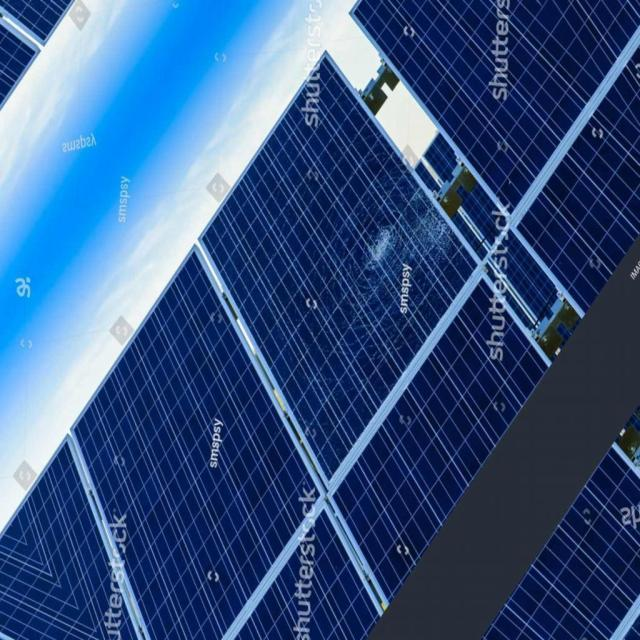cracked: (182, 51, 470, 472)
